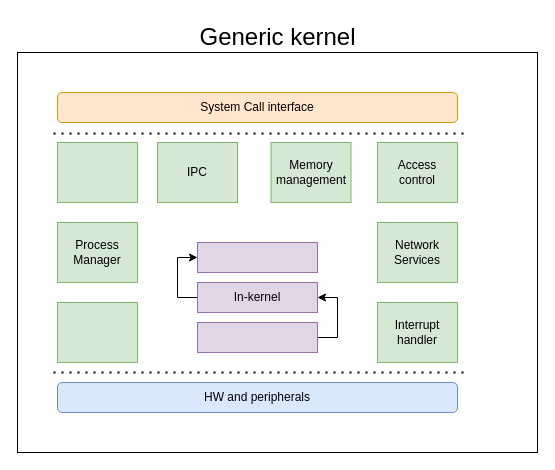
Some shapes in this 555 by 470 pixel diagram are drawn without their labels. The centre of each missing label's shape, as x and y in pixels:
Arch specific: [257,337]
Device Driver: [97,332]
IO subsystem: [97,172]
Loader: [257,257]
